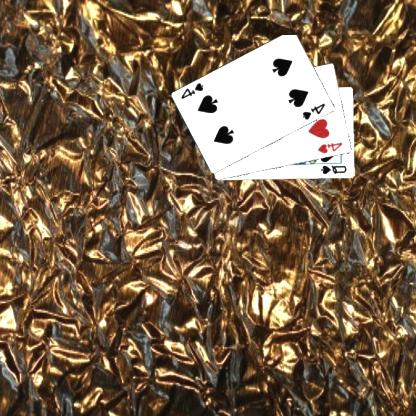4H: (317, 139, 346, 155)
4S: (180, 80, 207, 101), (302, 101, 328, 121)
QS: (320, 163, 350, 176)
